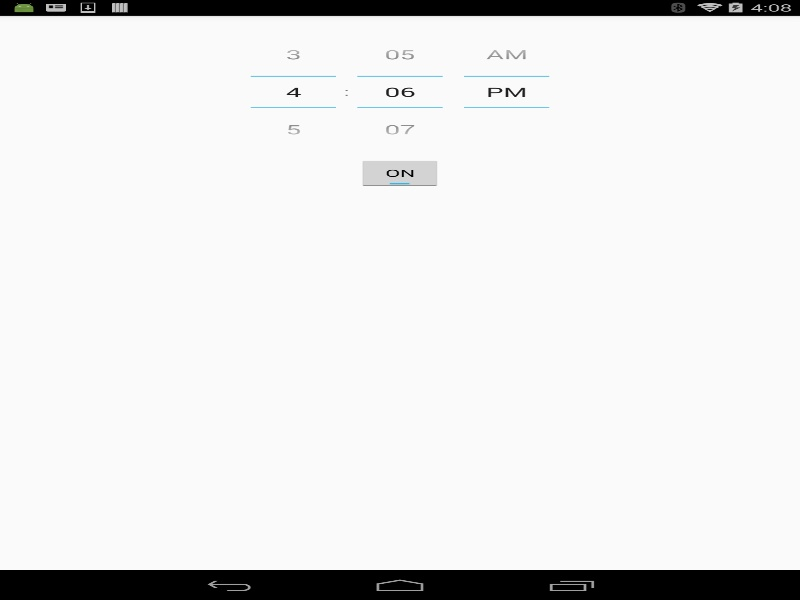Button: (250, 106, 336, 148), (357, 106, 442, 148), (250, 35, 336, 76), (463, 35, 549, 76), (357, 35, 442, 76)
Input: (250, 76, 336, 106), (463, 76, 549, 106), (357, 76, 442, 106)
